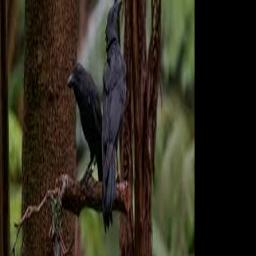Crow: (68, 63, 113, 234), (102, 0, 124, 229)
